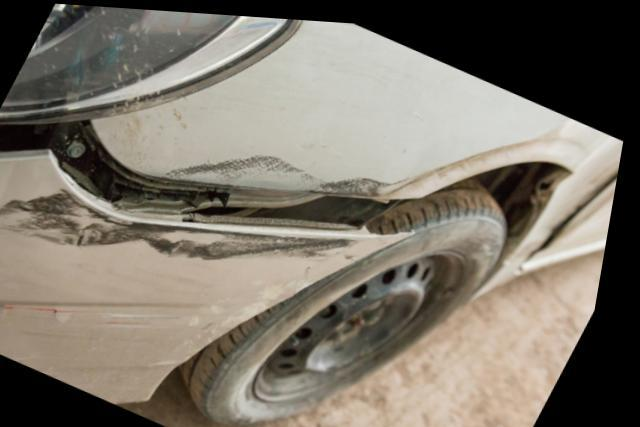dislocated part: (0, 112, 421, 403)
scratch: (0, 181, 366, 259), (161, 146, 440, 192), (237, 12, 292, 24)
